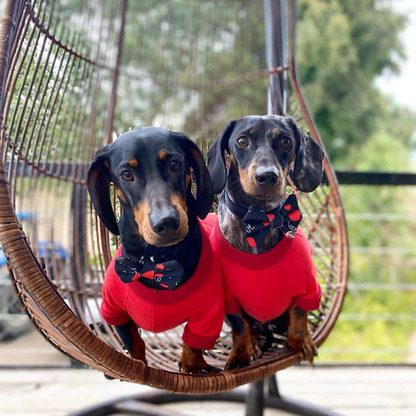dachshund: (214, 111, 346, 388), (78, 123, 221, 370)
